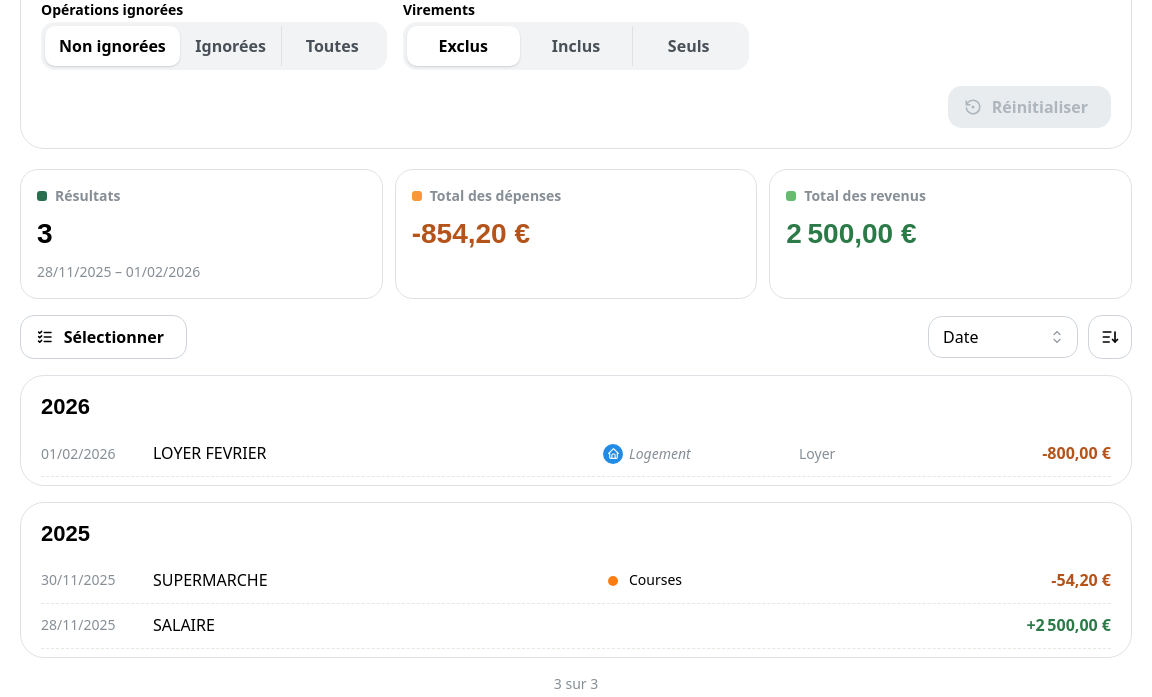
Test: SearchPage › leaves the selection mode for the sheet again
This screenshot has width=1152, height=697.
(page scrolled)
expect the text "LOYER FEVRIER" is shown: met, box 153,442 -> 266,466
Click the button "Sélectionner" at (104, 337), box 20,315 -> 187,359
(page scrolled)
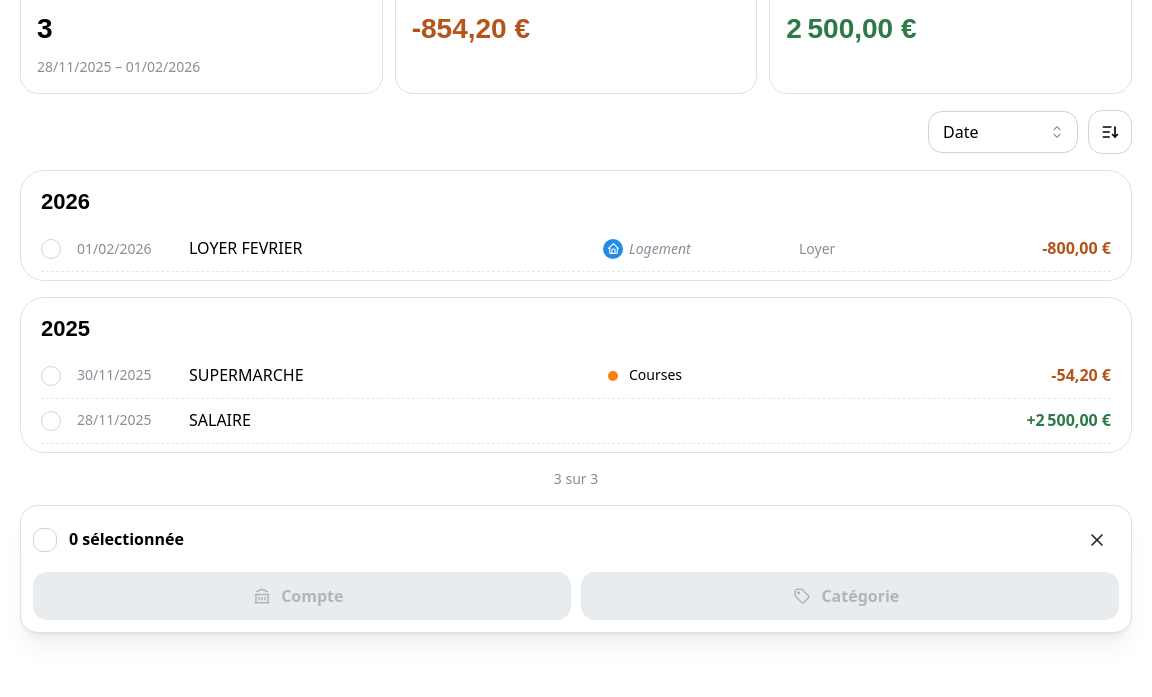
Click the button named "Terminer" at (1097, 540), box 1075,518 -> 1119,562
(page scrolled)
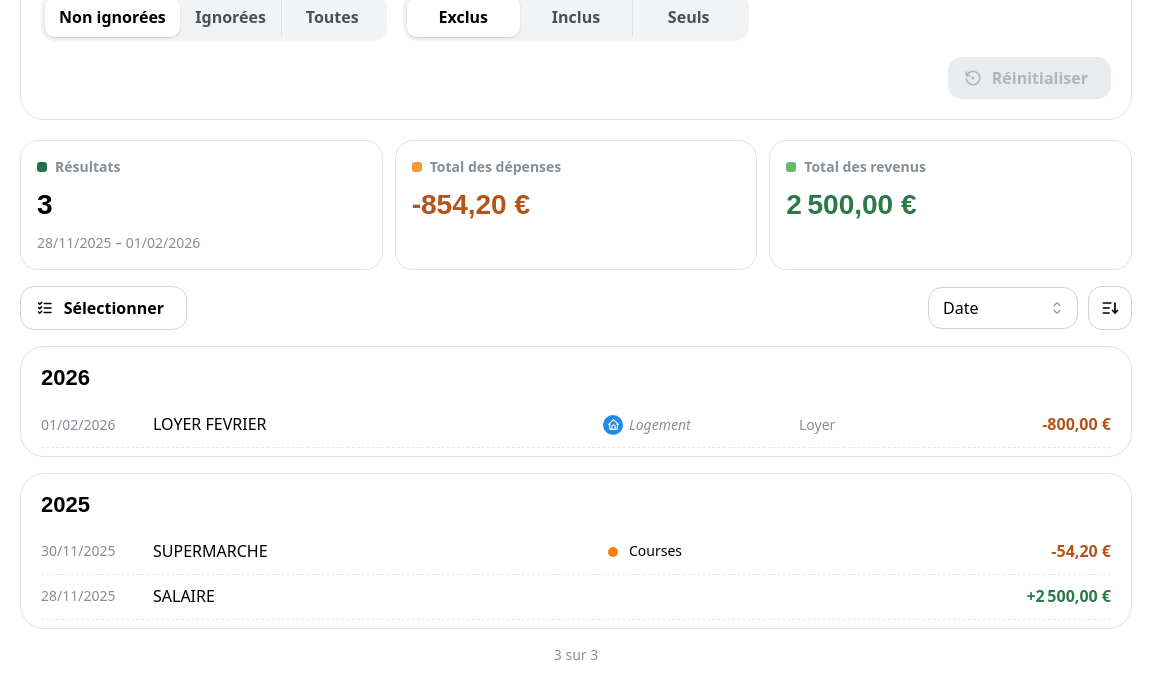
Click the button "SALAIRE +2 500,00 €" at (184, 596), box 41,574 -> 1111,618
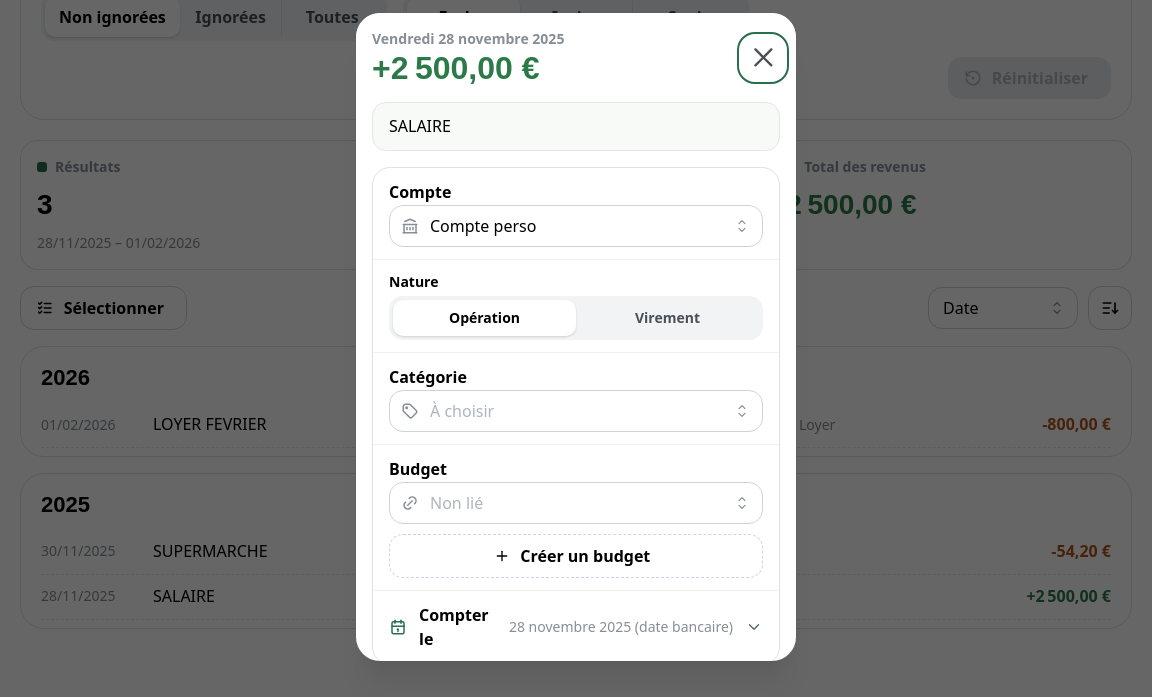
expect the dialog is shown: met, box 356,13 -> 796,661
